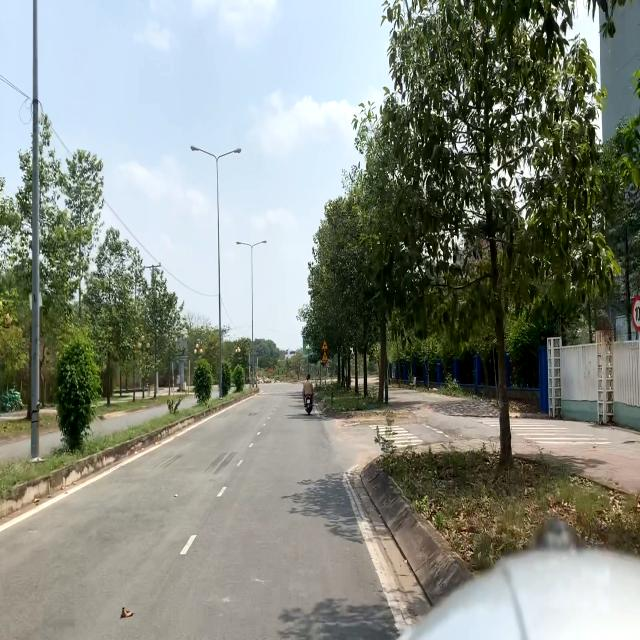W.205d: (322, 339, 328, 350)
W.224: (322, 351, 328, 362)
